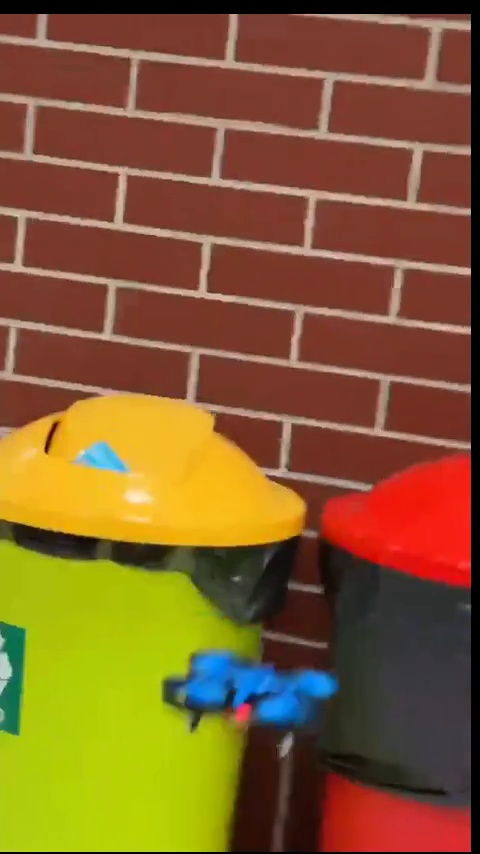drone: (169, 646, 329, 743)
